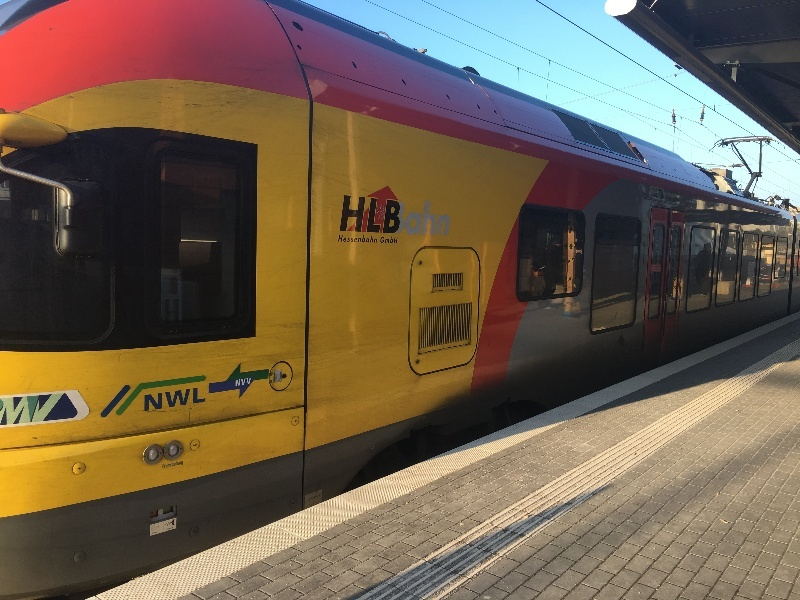text: (353, 195, 368, 237), (369, 195, 384, 237), (385, 195, 400, 237), (401, 195, 416, 237), (417, 195, 432, 237), (433, 195, 448, 237), (145, 386, 160, 413), (161, 386, 176, 413), (177, 386, 192, 413), (193, 386, 206, 413), (345, 195, 352, 237), (353, 235, 368, 243), (163, 460, 176, 469), (339, 235, 352, 243), (385, 236, 398, 244), (241, 378, 252, 386), (449, 195, 451, 237), (309, 494, 320, 501), (369, 235, 378, 243), (177, 460, 183, 469), (657, 264, 662, 273), (166, 527, 176, 531), (652, 264, 656, 273), (236, 378, 240, 386), (151, 532, 160, 535), (381, 236, 384, 244), (321, 494, 322, 501)
